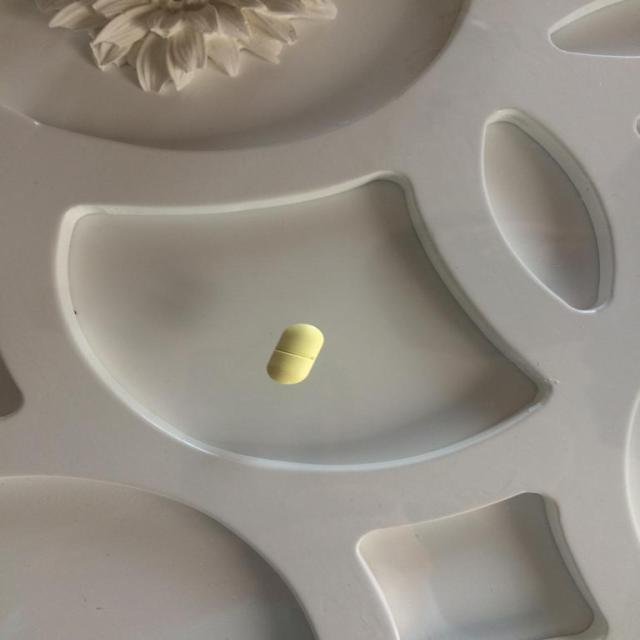pills: (257, 314, 334, 392)
